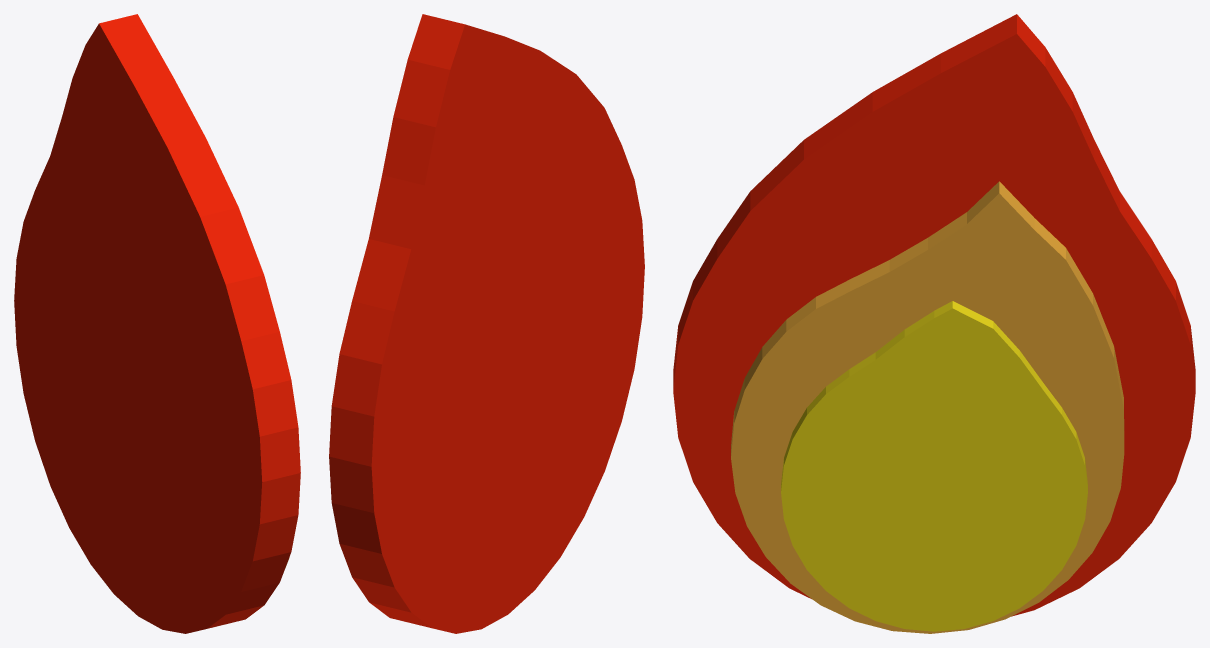
The model's file is fire.fbx.
The picture shows the model from 3 angles, left to right: view 1: azimuth 30°, elevation 25°; view 2: azimuth 150°, elevation 25°; view 3: azimuth 270°, elevation 25°; orthographic projection. The views are drawn at different scales.
Parts seen in each view (by area): view 1: 圆环.002; view 2: 圆环.002; view 3: 圆环.002.
Boxes of the visible parts, <box> form: 圆环.002: <box>14,14,300,633</box>; 圆环.002: <box>329,14,644,633</box>; 圆环.002: <box>673,14,1195,633</box>.
Size of the model in its own units: 35.86 by 251 by 200.
